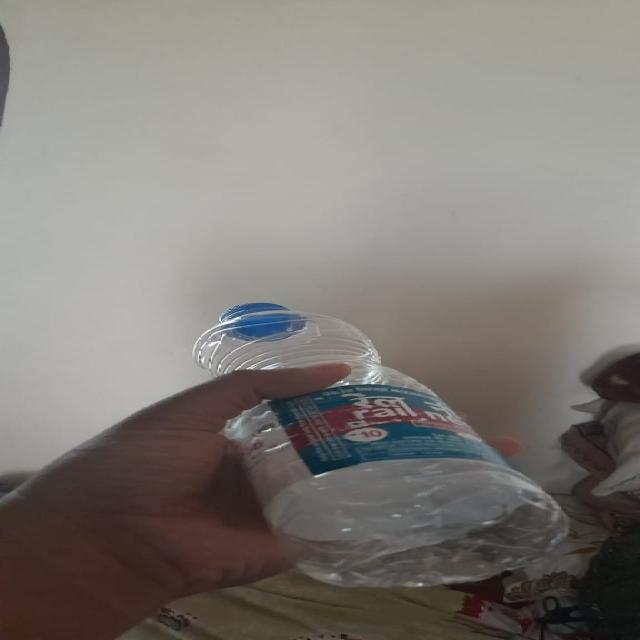Plastic - Recyclable: (189, 301, 570, 589)
